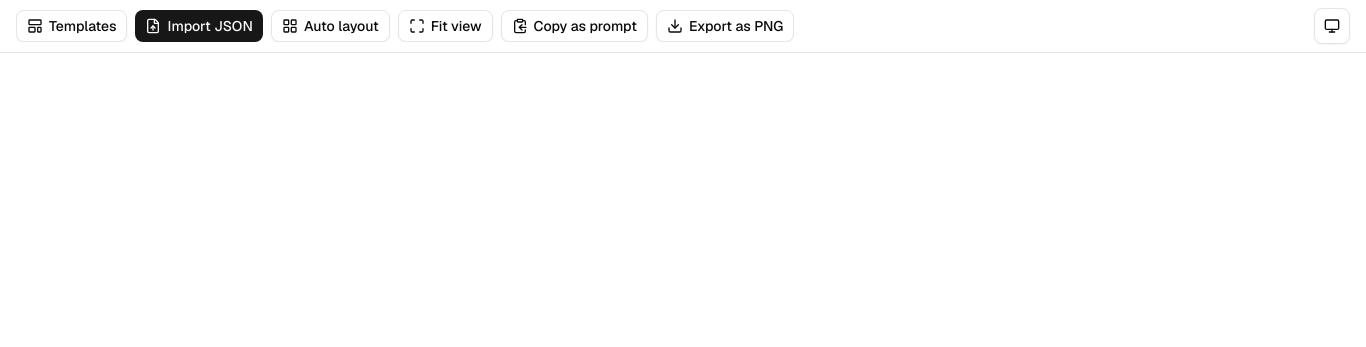
it: DiagramToolbar Templates dropdown › opens and lists every template under its group label (regression: Base UI requires DropdownMenuLabel inside DropdownMenuGroup)
Click the button "Templates".
click(72, 26)  # box [16, 10, 128, 42]
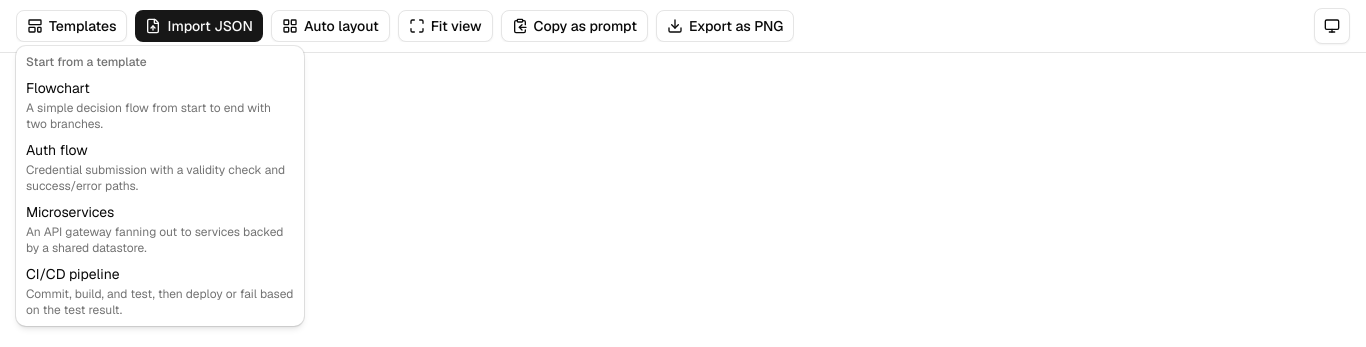
expect the text "Start from a template" is shown: met, box [26, 54, 147, 70]
expect the menu item "Flowchart" is shown: met, box [20, 74, 300, 136]
expect the menu item "Auth flow" is shown: met, box [20, 136, 300, 198]
